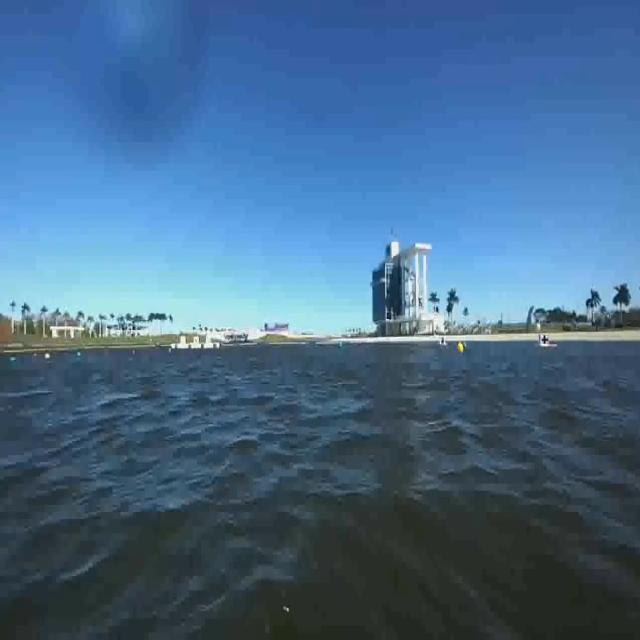yellow-buoy: (458, 342, 465, 354)
